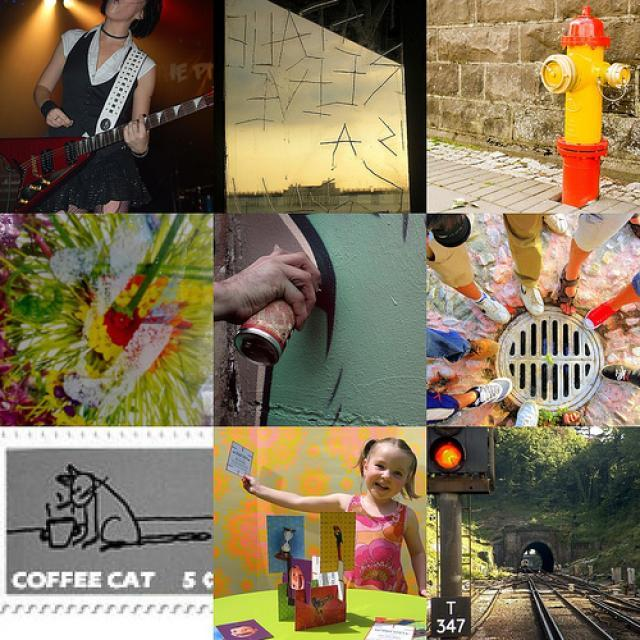fire_hydrant: (546, 9, 628, 206)
